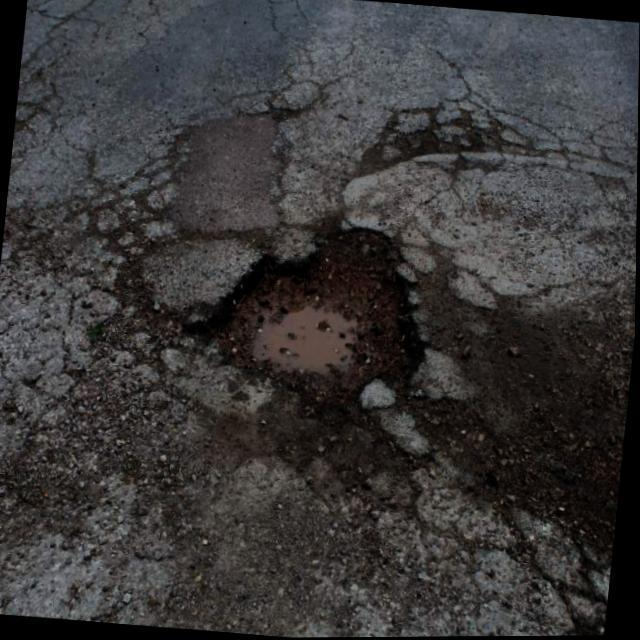Pothole: (208, 225, 431, 438)
